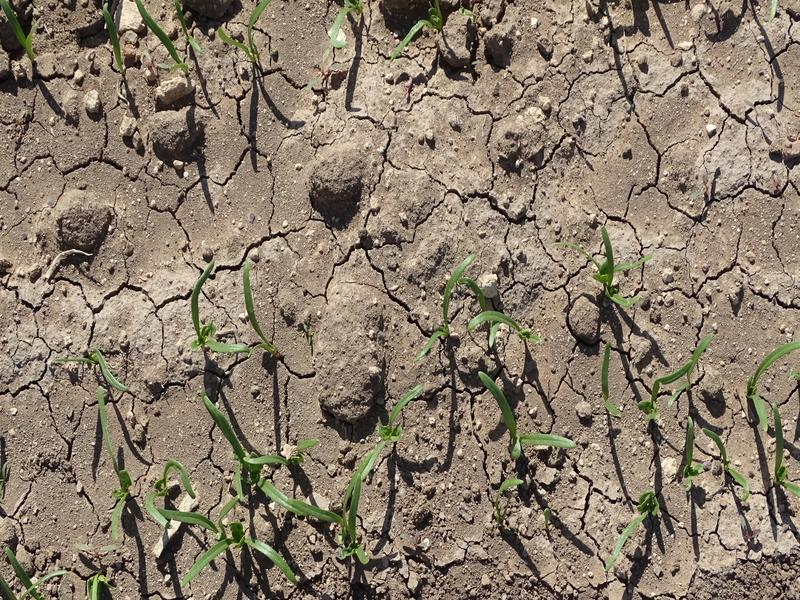Espinaca: (142, 454, 370, 589), (421, 259, 524, 358), (107, 465, 212, 544), (473, 373, 573, 454), (573, 232, 645, 309), (80, 347, 129, 458), (191, 263, 248, 356), (647, 335, 711, 409), (747, 343, 800, 427), (701, 429, 754, 497), (610, 492, 660, 561), (770, 435, 800, 493), (679, 415, 699, 489)
